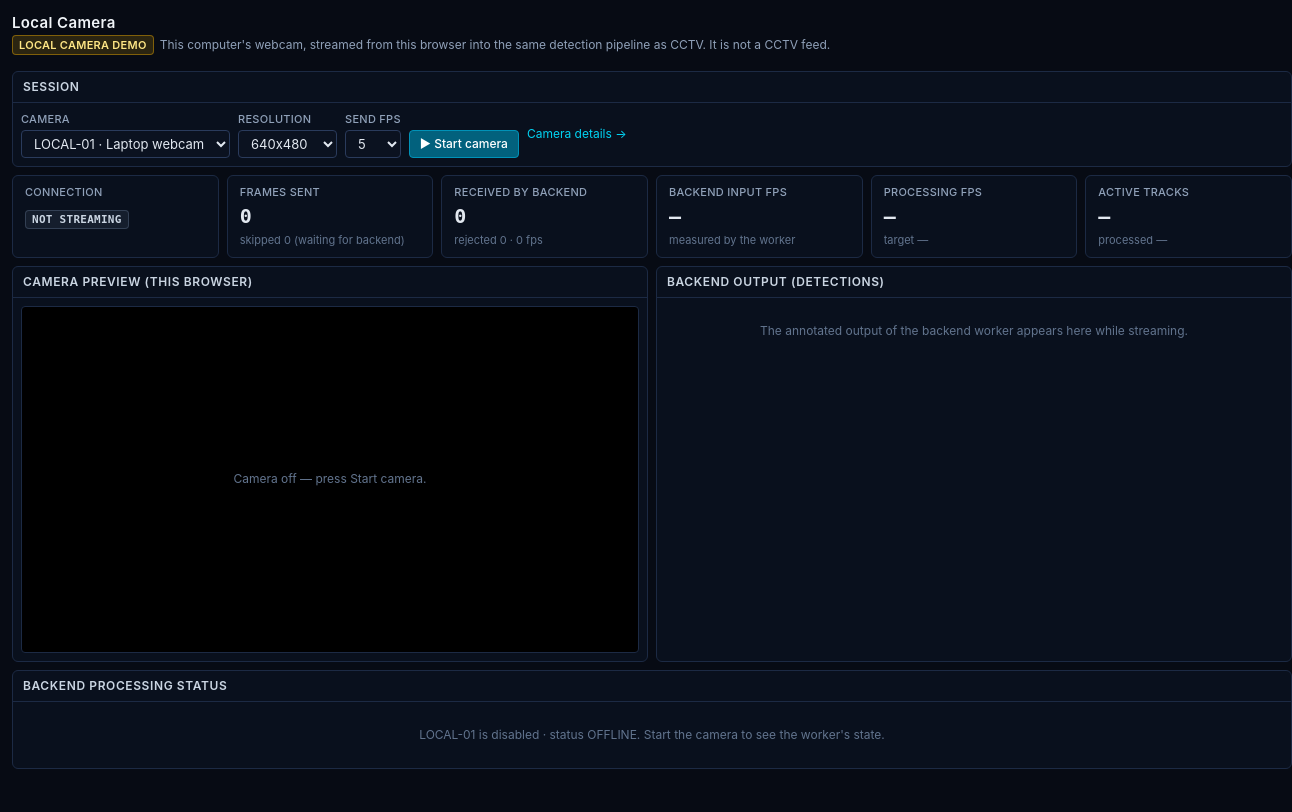
Test: Local Camera page › reports a denied permission and does not enable the camera
Click the button "▶ Start camera" at (464, 144), box [409,130,519,158]
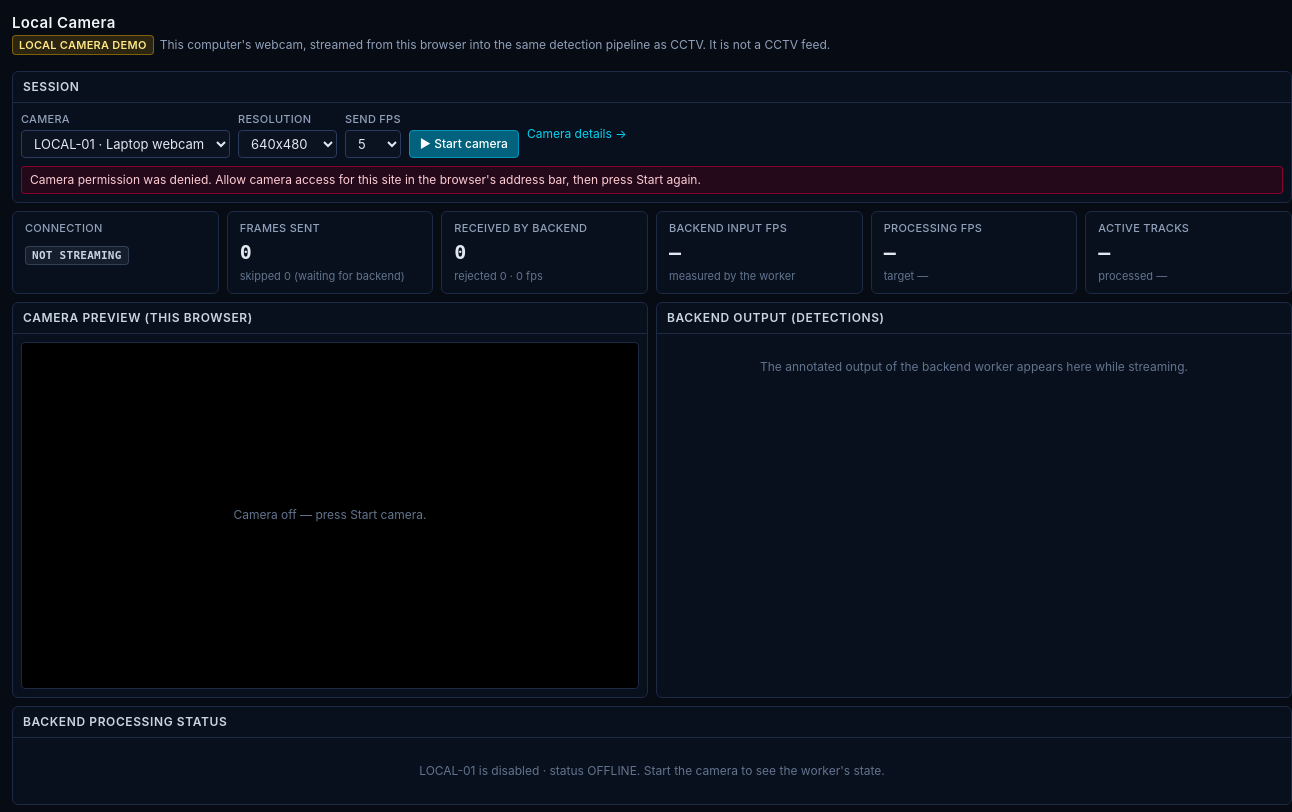
Expected: the message shows "permission was denied", [30,172,701,186]
